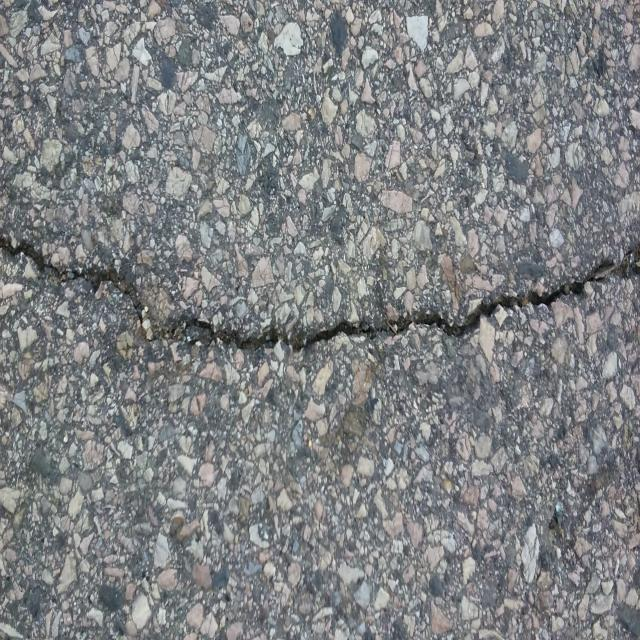transverse: (0, 211, 640, 370)
